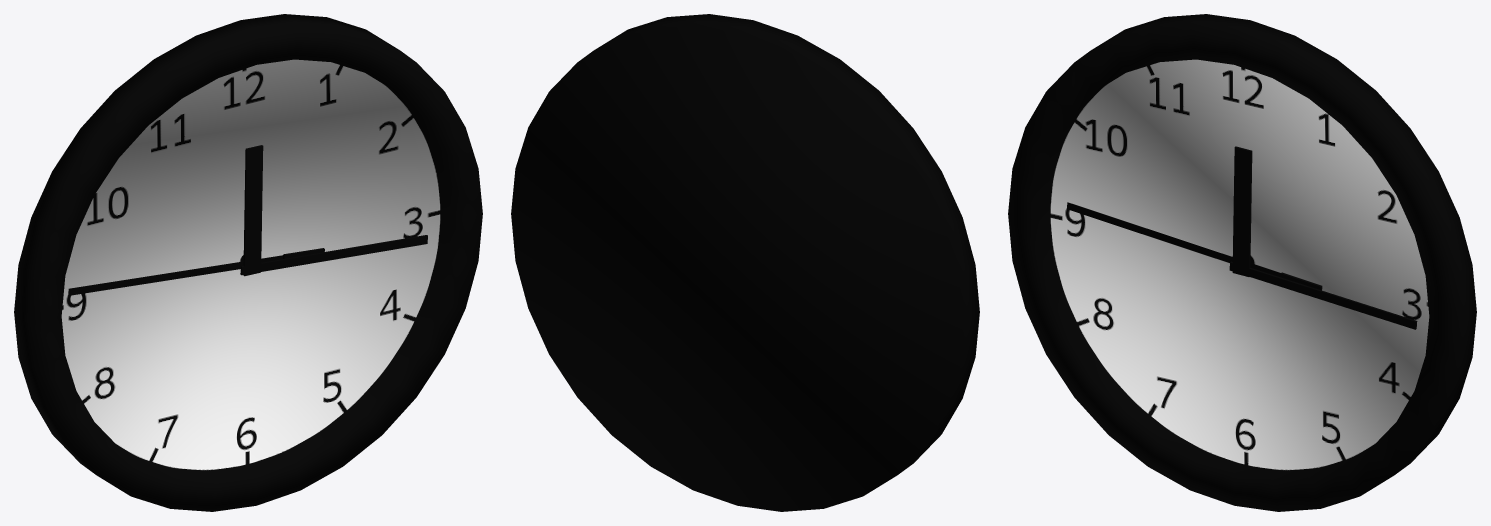
File: clock.glb
3 views of the same model, side by side, from view 1: azimuth 30°, elevation 25°; view 2: azimuth 150°, elevation 25°; view 3: azimuth 330°, elevation 25° (orthographic).
Visible parts, largest first — view 1: Reloj, Aguja, Aguja.00, Aguja.002; view 2: Reloj; view 3: Reloj, Aguja, Aguja.00, Aguja.002.
Part boxes in pixels (bbox=[...]): Reloj: bbox=[14, 14, 482, 511]; Aguja: bbox=[243, 145, 263, 276]; Aguja.00: bbox=[240, 235, 427, 275]; Aguja.002: bbox=[68, 248, 324, 295]; Reloj: bbox=[511, 14, 979, 511]; Reloj: bbox=[1008, 14, 1476, 511]; Aguja: bbox=[1232, 146, 1252, 276]; Aguja.00: bbox=[1229, 261, 1417, 329]; Aguja.002: bbox=[1067, 202, 1322, 290].
Bounding box in the file's own units: 0.9126 × 0.9126 × 0.0571.
Materials: 3 (1 with a texture image).
